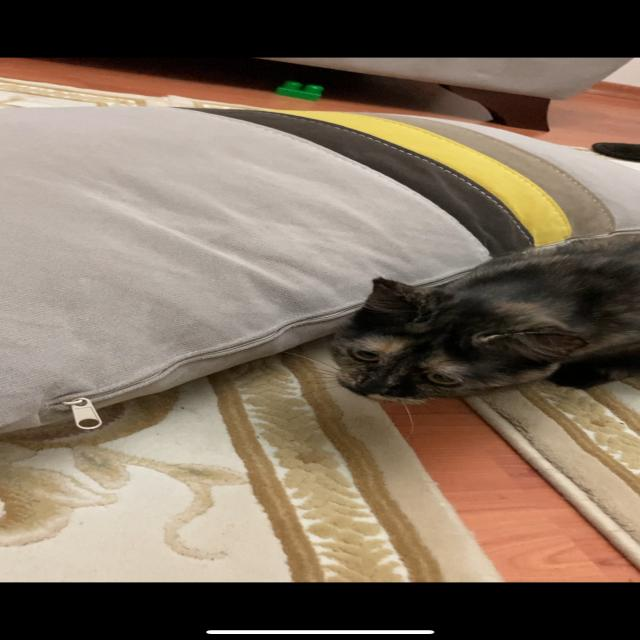authorized: (319, 240, 639, 405)
